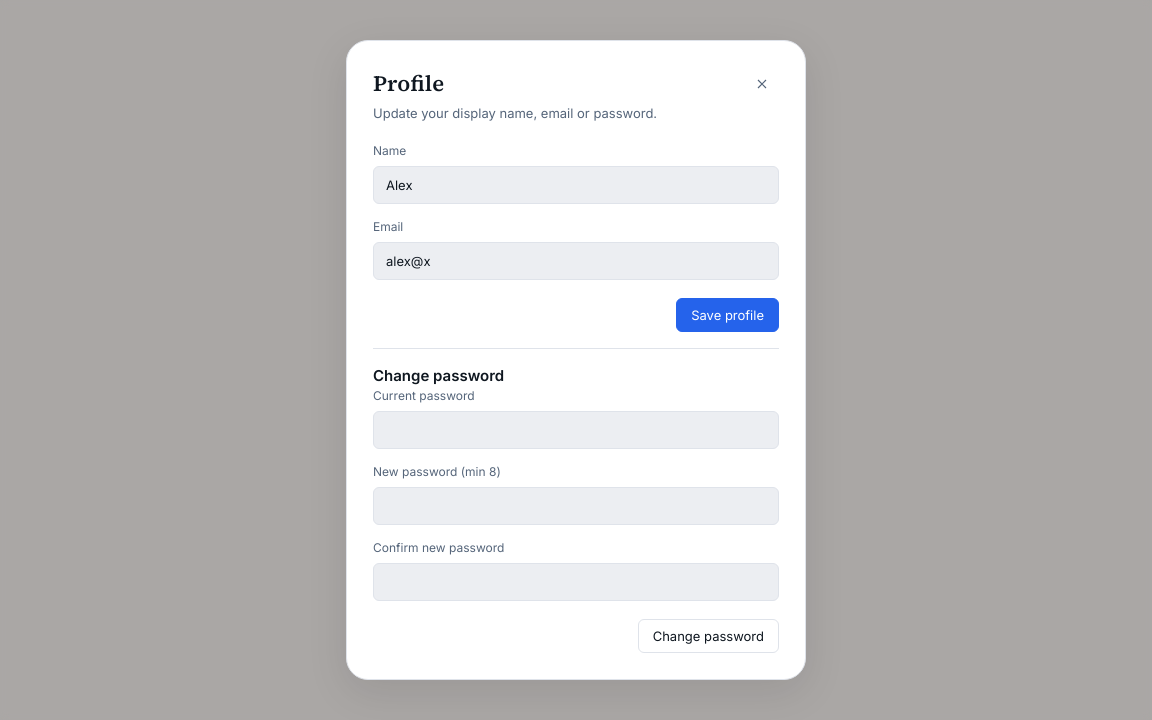
Test: ProfileModal — password change › rejects mismatched confirmation with an inline error
Type "oldpassword" into the password field below "Current password" at {"x": 576, "y": 430}, box [373,411,779,449]
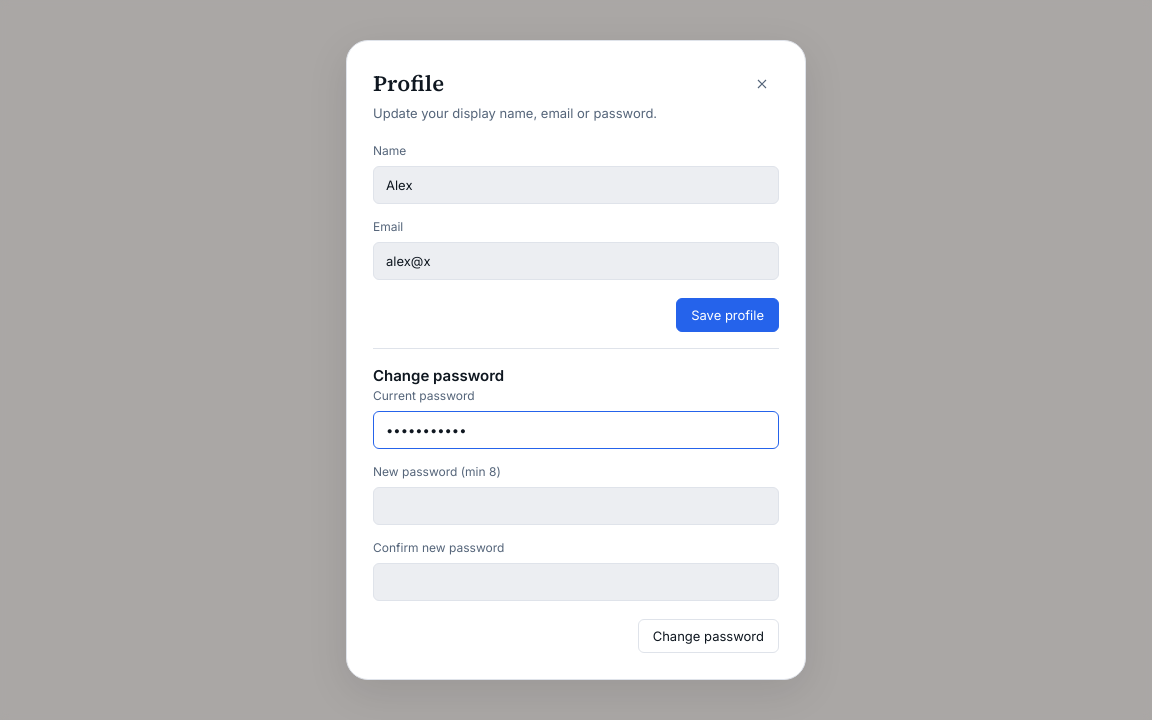
Type "newpassword" into the password field below "New password (min" at {"x": 576, "y": 506}, box [373,487,779,525]
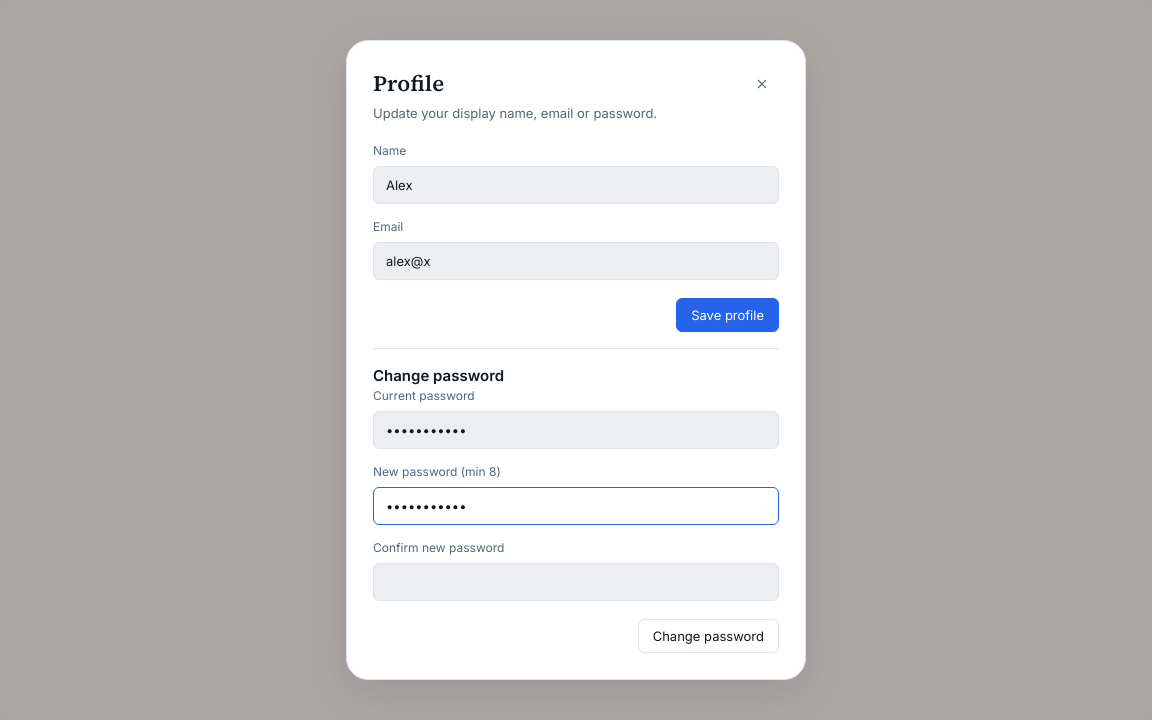
Type "newpasswordX" into the password field below "Confirm new password" at {"x": 576, "y": 582}, box [373,563,779,601]
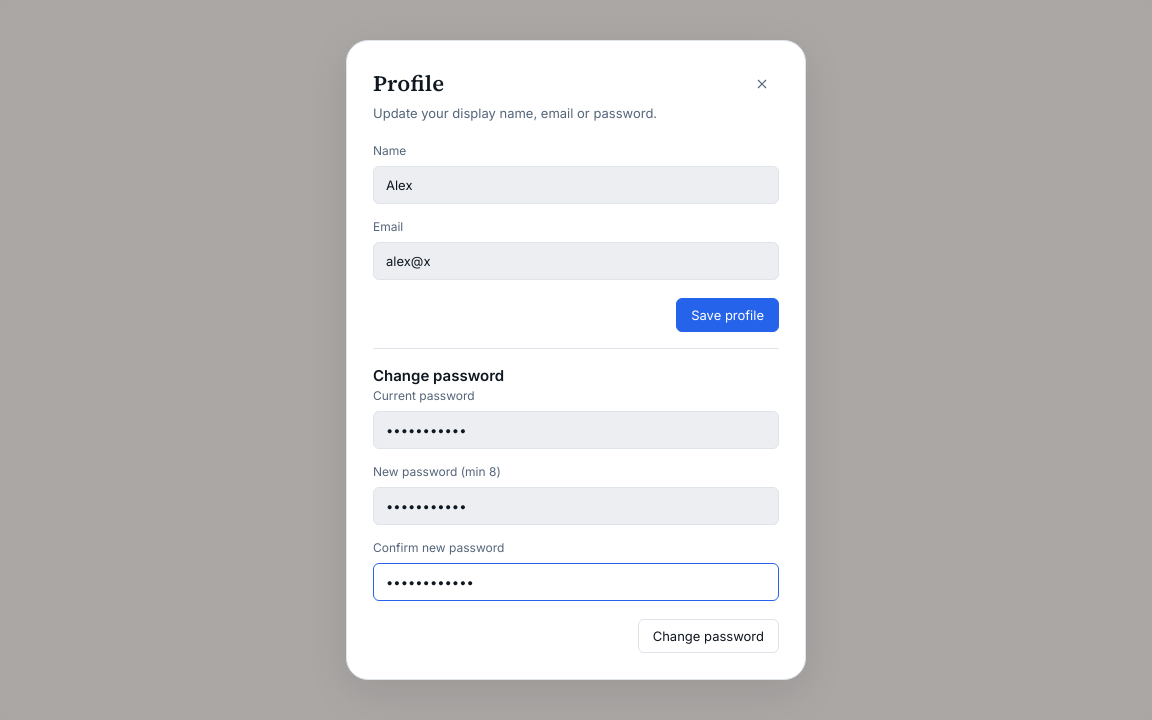
Submit the form that starts with "Current password", box [373,387,779,653]
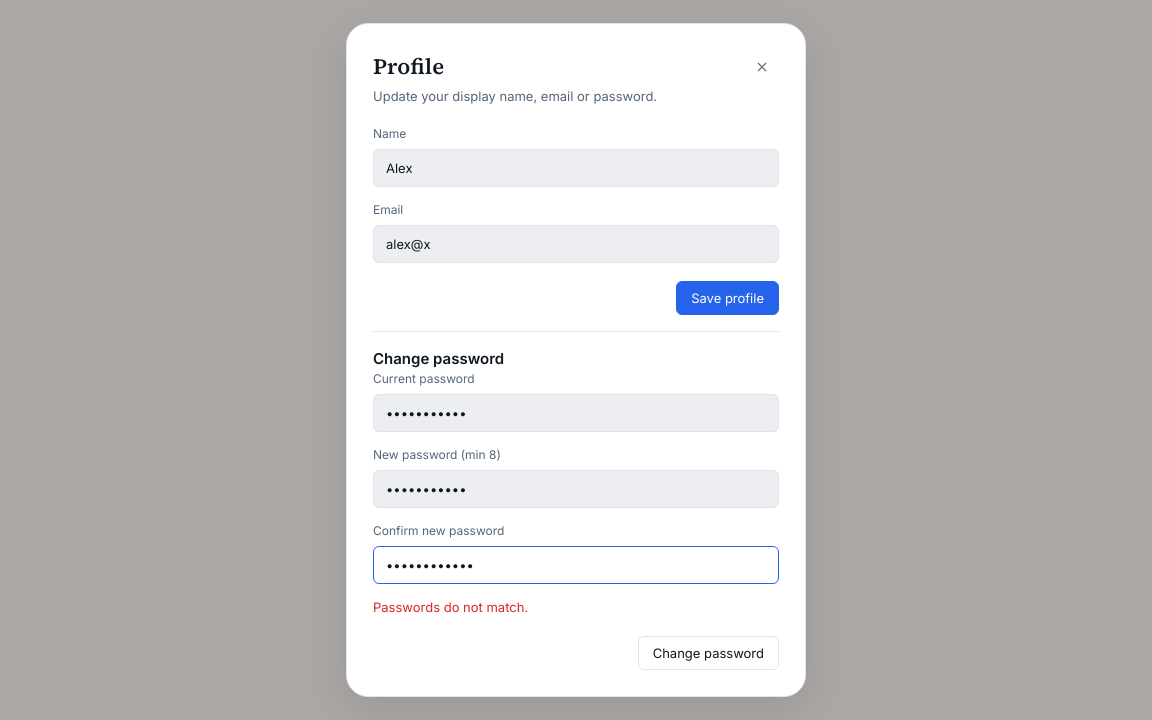
Expected: the text "Passwords do not match." is shown, [373,599,528,615]
